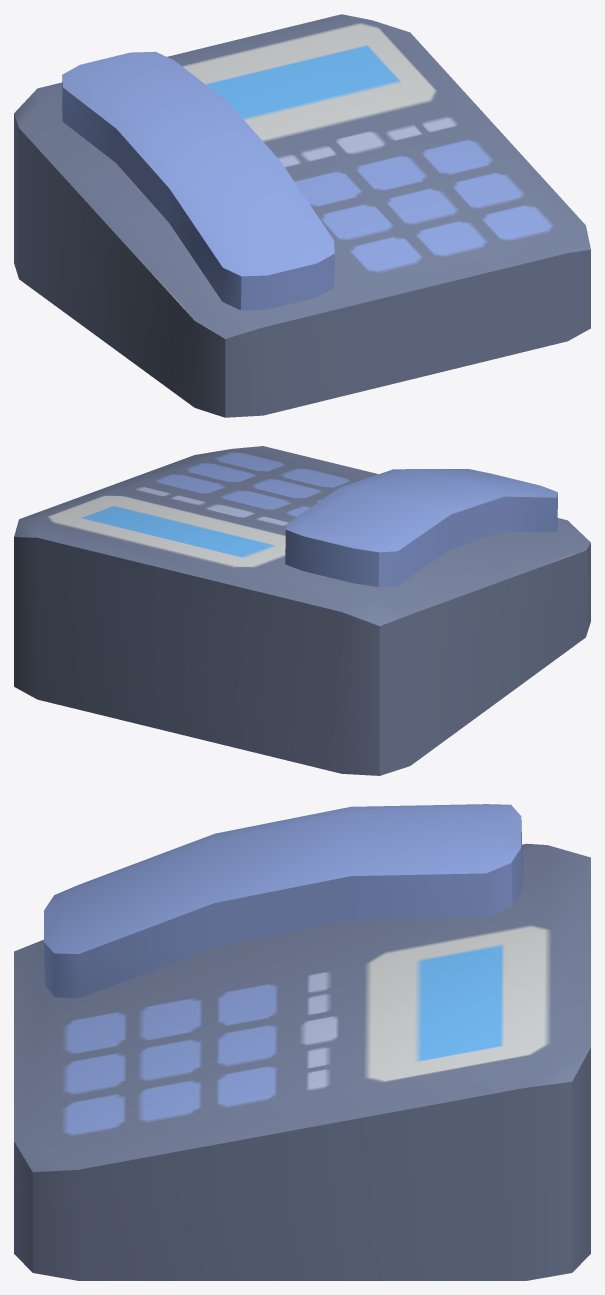
Rendered from props_landline.fbx.
The picture shows the model from 3 angles, top to bottom: view 1: azimuth 30°, elevation 25°; view 2: azimuth 150°, elevation 25°; view 3: azimuth 270°, elevation 25°; orthographic projection. The views are drawn at different scales.
Visible parts, largest first — view 1: landline; view 2: landline; view 3: landline.
Part boxes in pixels (x1=…): landline: x1=14, y1=14, x2=590, y2=417; landline: x1=14, y1=446, x2=590, y2=775; landline: x1=14, y1=804, x2=590, y2=1280.
Bounding box in the file's own units: 56.3 × 27.83 × 56.3.
